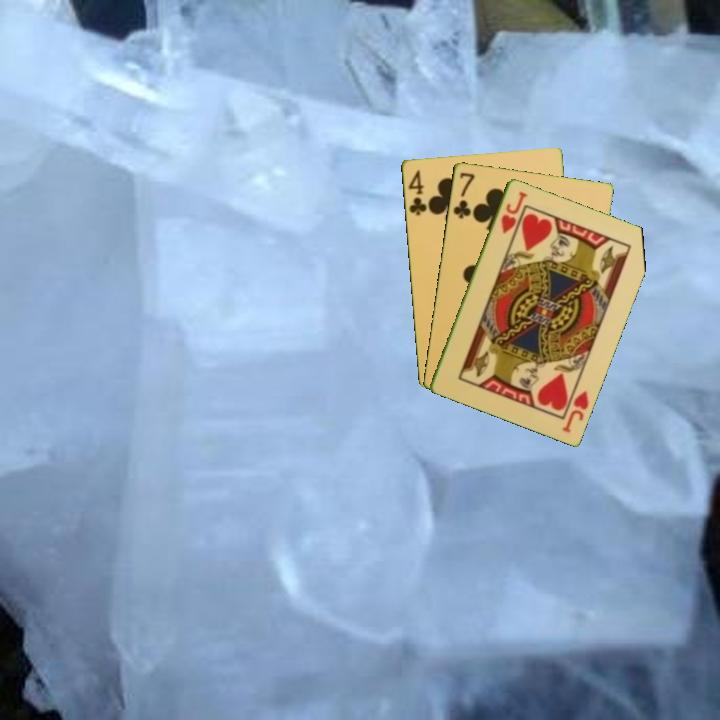4c: (404, 166, 429, 218)
7c: (449, 168, 477, 221)
Jh: (558, 386, 591, 435), (497, 188, 530, 236)
